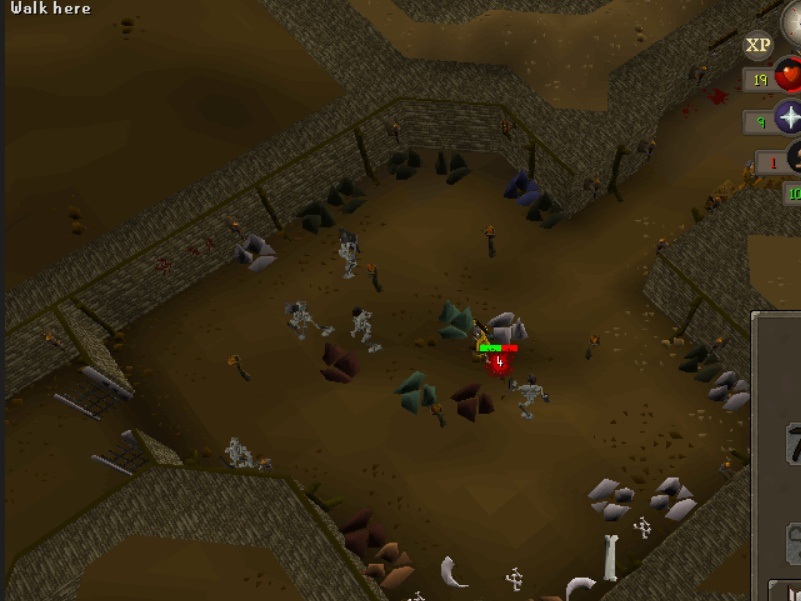adamant: (391, 367, 440, 418), (431, 295, 480, 346)
coal: (429, 143, 480, 188), (383, 142, 434, 187), (289, 193, 339, 237), (524, 189, 574, 230), (326, 172, 371, 216), (677, 342, 722, 386)
copper: (363, 539, 415, 594)
iron: (340, 502, 393, 557), (317, 337, 365, 391), (450, 372, 498, 426)
mithril: (500, 166, 541, 208)
silver: (583, 472, 640, 527), (643, 471, 700, 526), (485, 306, 533, 346)
tin: (230, 230, 280, 277), (707, 366, 757, 413)
